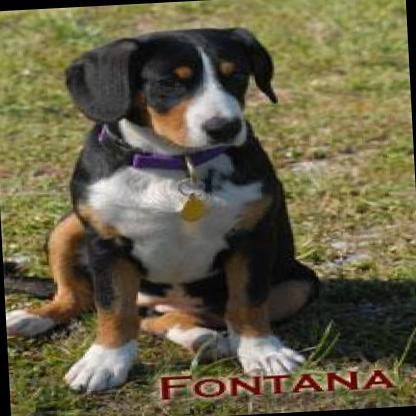EntleBucher: (0, 10, 353, 413)
